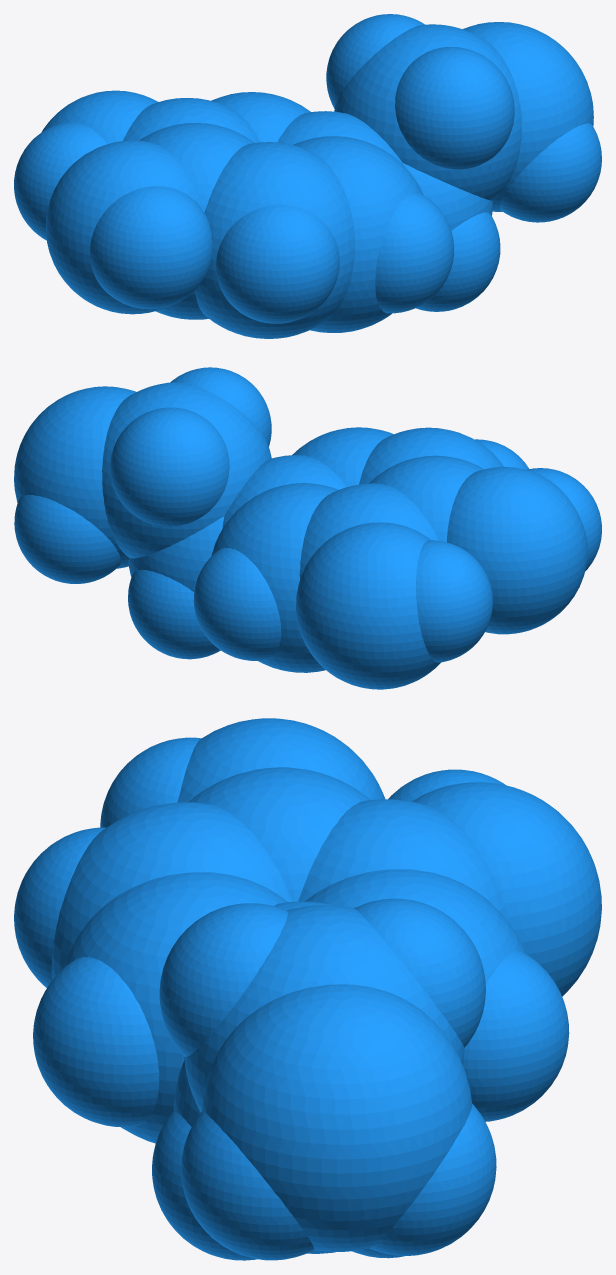
File: 681-CPK-print_NIH3D-mr.glb
The picture shows the model from 3 angles, top to bottom: view 1: azimuth 30°, elevation 25°; view 2: azimuth 150°, elevation 25°; view 3: azimuth 270°, elevation 25°; orthographic projection. The views are drawn at different scales.
Parts seen in each view (by area): view 1: 681-CPK-print_NIH3D-mr; view 2: 681-CPK-print_NIH3D-mr; view 3: 681-CPK-print_NIH3D-mr.
Part boxes in pixels (<box>): 681-CPK-print_NIH3D-mr: <box>14,14,601,338</box>; 681-CPK-print_NIH3D-mr: <box>14,367,601,689</box>; 681-CPK-print_NIH3D-mr: <box>14,718,601,1260</box>.
Bounding box in the file's own units: 10.9 × 4.75 × 7.11.
